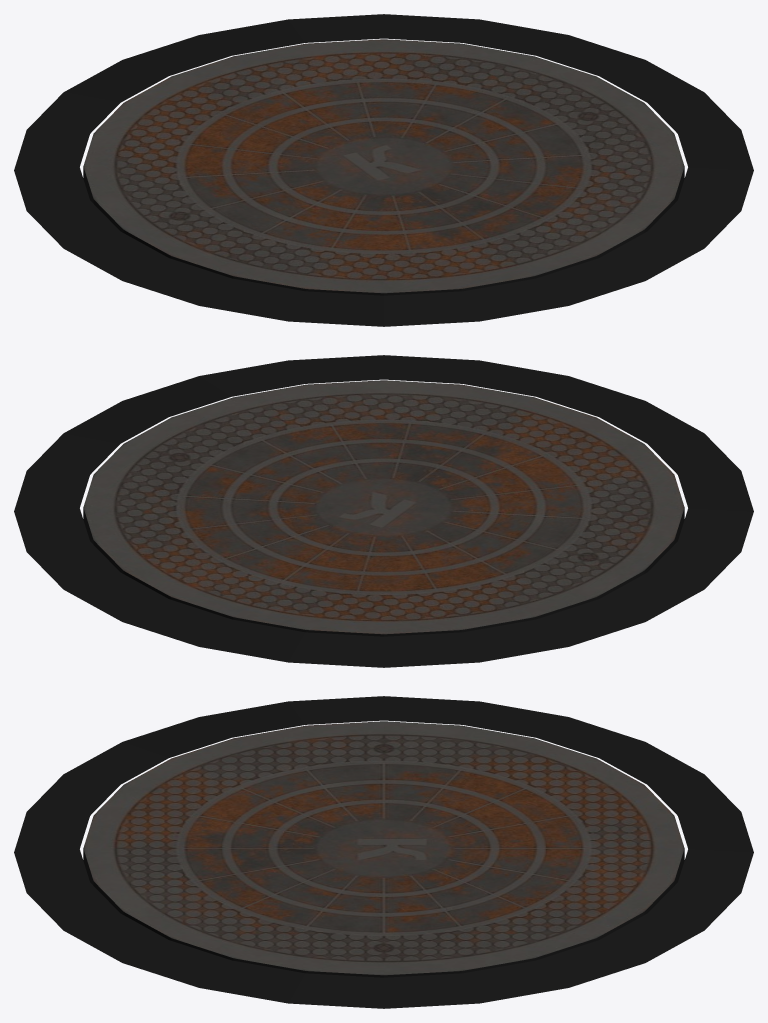
The model's file is manhole_lod1_web.glb.
The picture shows the model from 3 angles, top to bottom: view 1: azimuth 30°, elevation 25°; view 2: azimuth 150°, elevation 25°; view 3: azimuth 270°, elevation 25°; orthographic projection.
Visible parts, largest first — view 1: Manhole_Mesh; view 2: Manhole_Mesh; view 3: Manhole_Mesh.
Boxes of the visible parts, box(x1,y1,x2,y2) form: Manhole_Mesh: box(14, 14, 753, 326); Manhole_Mesh: box(14, 355, 753, 667); Manhole_Mesh: box(14, 696, 753, 1008).
Size of the model in its own units: 0.8 by 0.03 by 0.8.
1 material, 1 textured.
